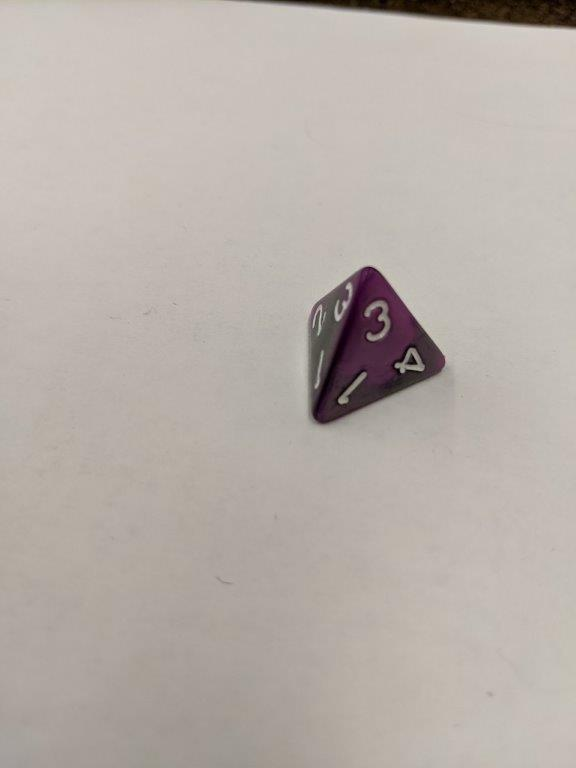d4-3: (305, 266, 446, 425)
